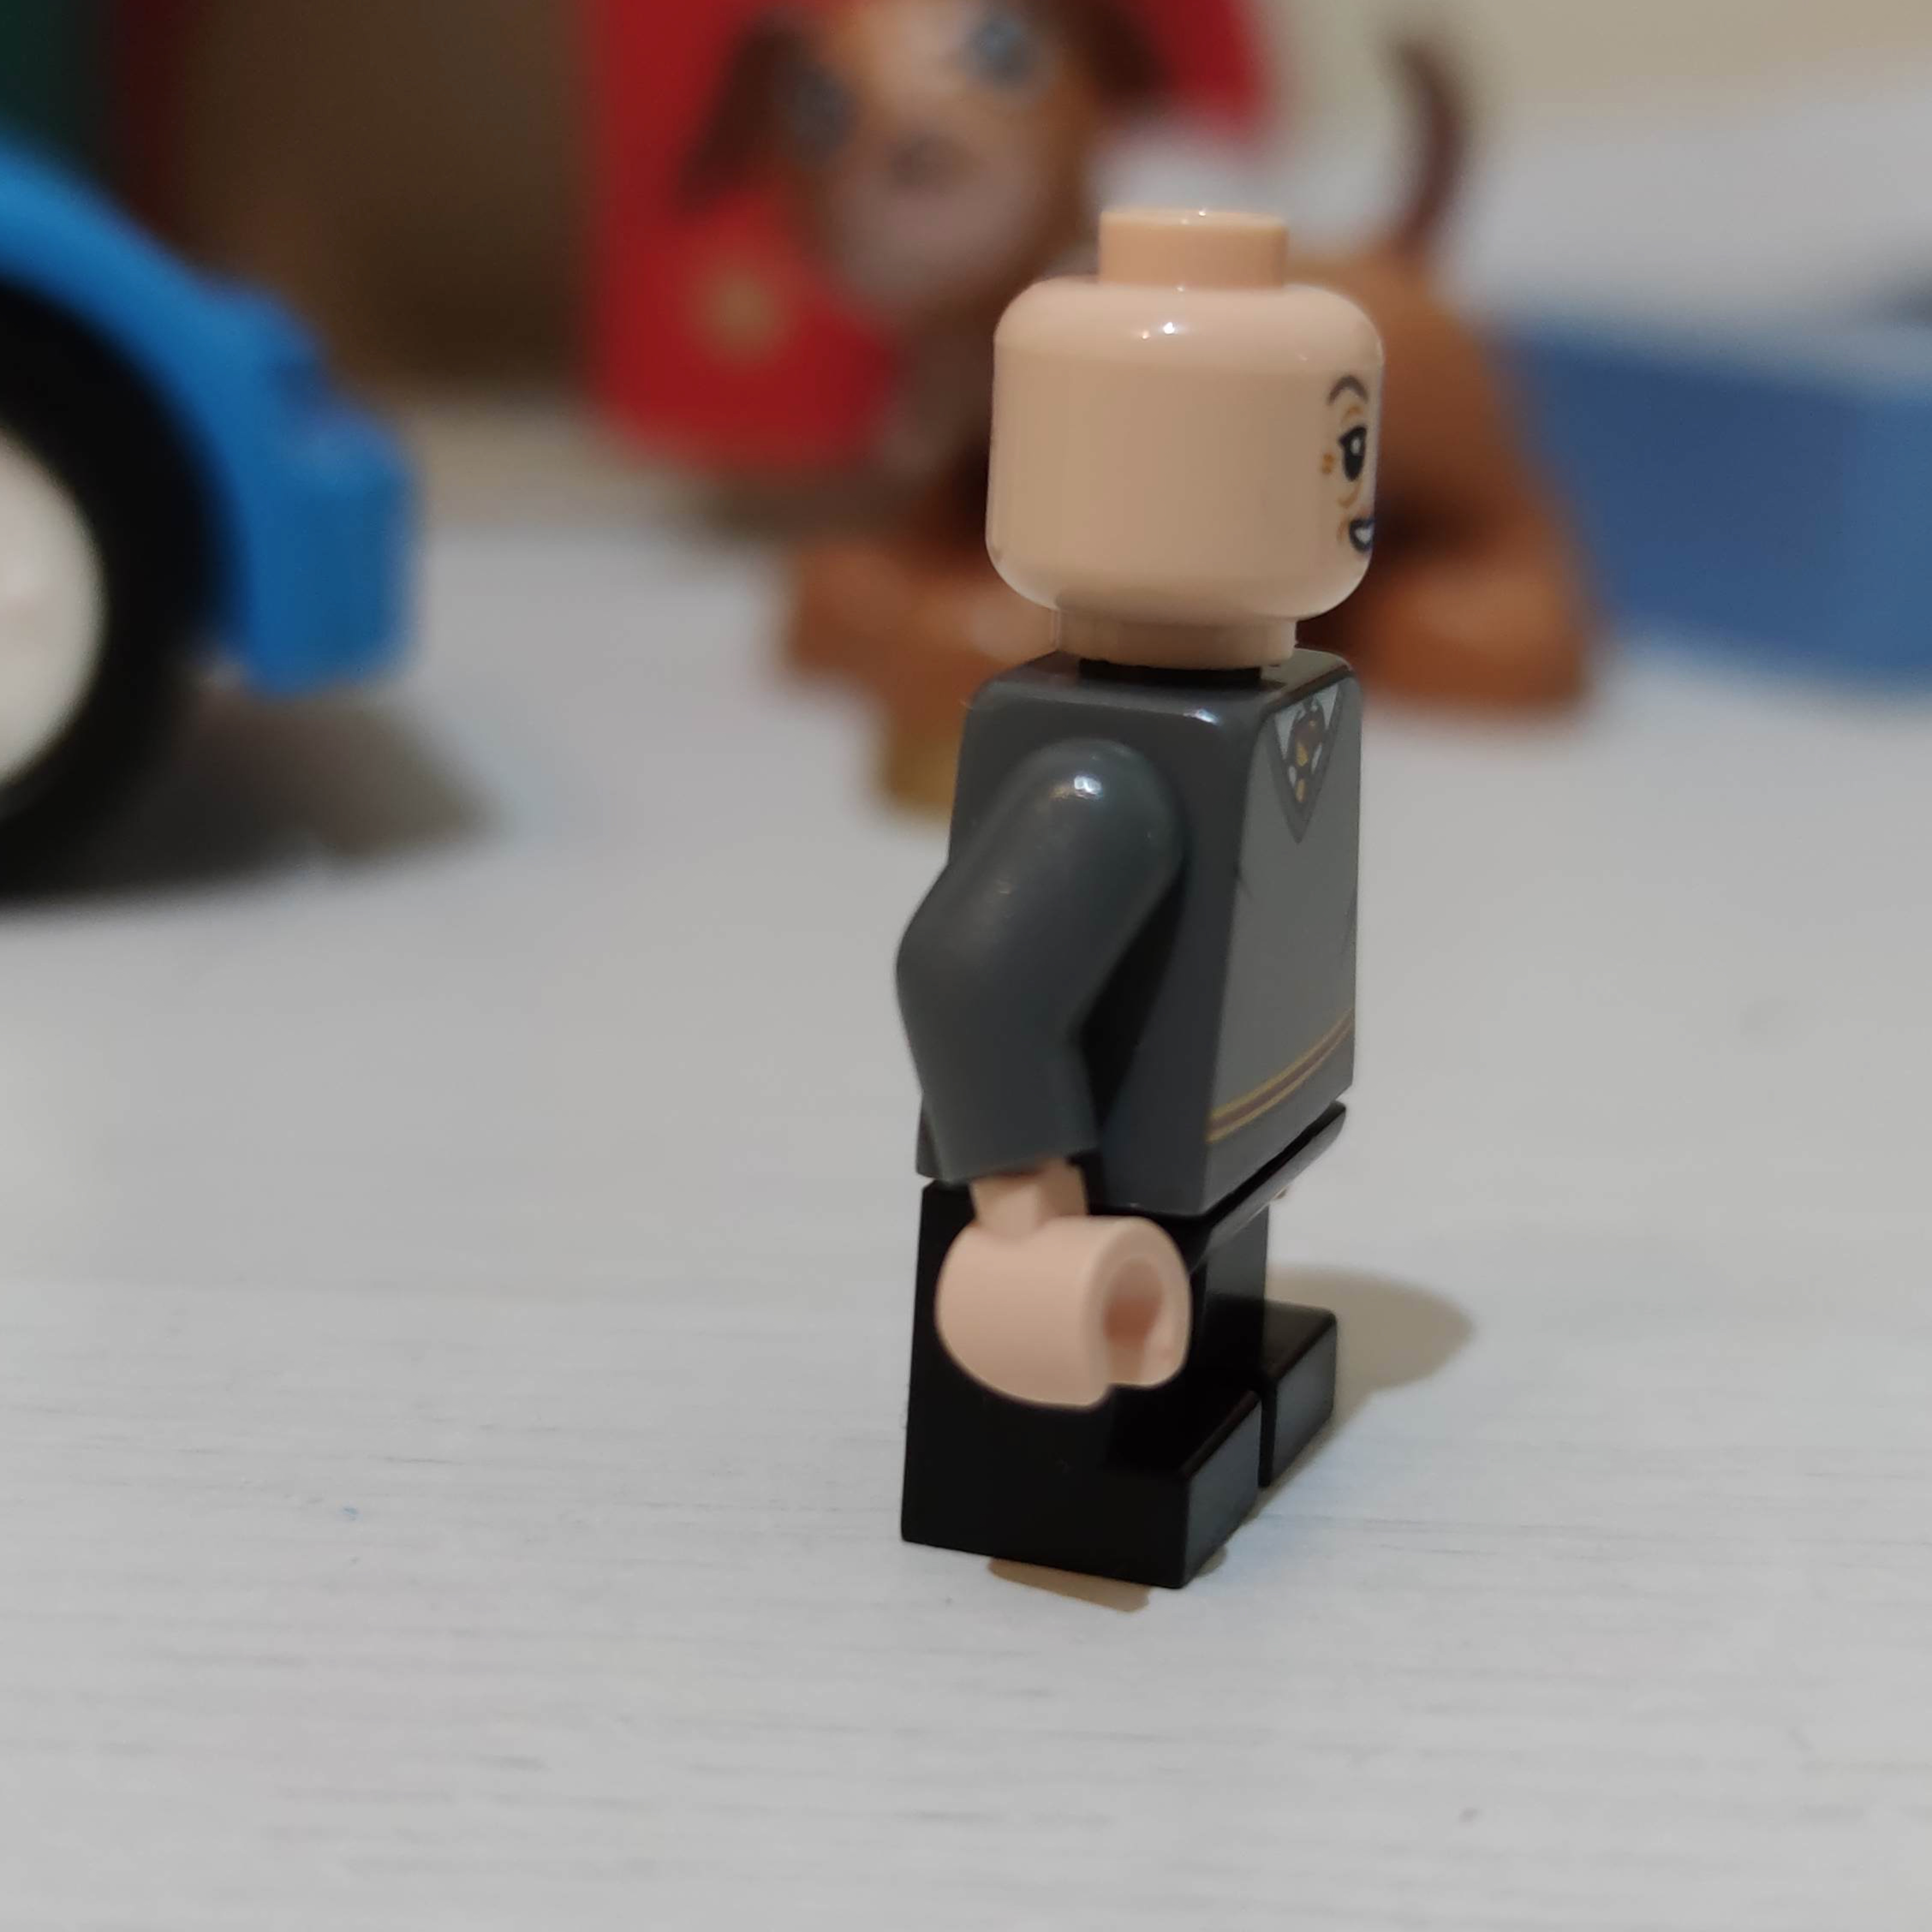lego: (892, 214, 1389, 1583)
